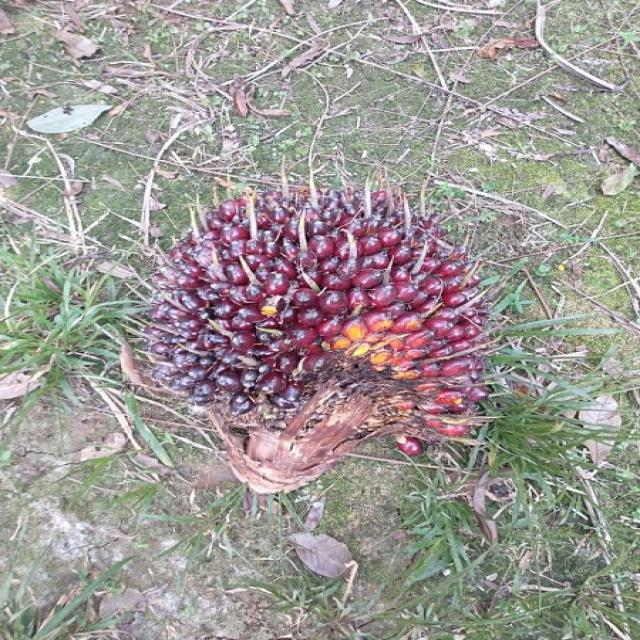fraksi 1: (130, 121, 524, 508)
